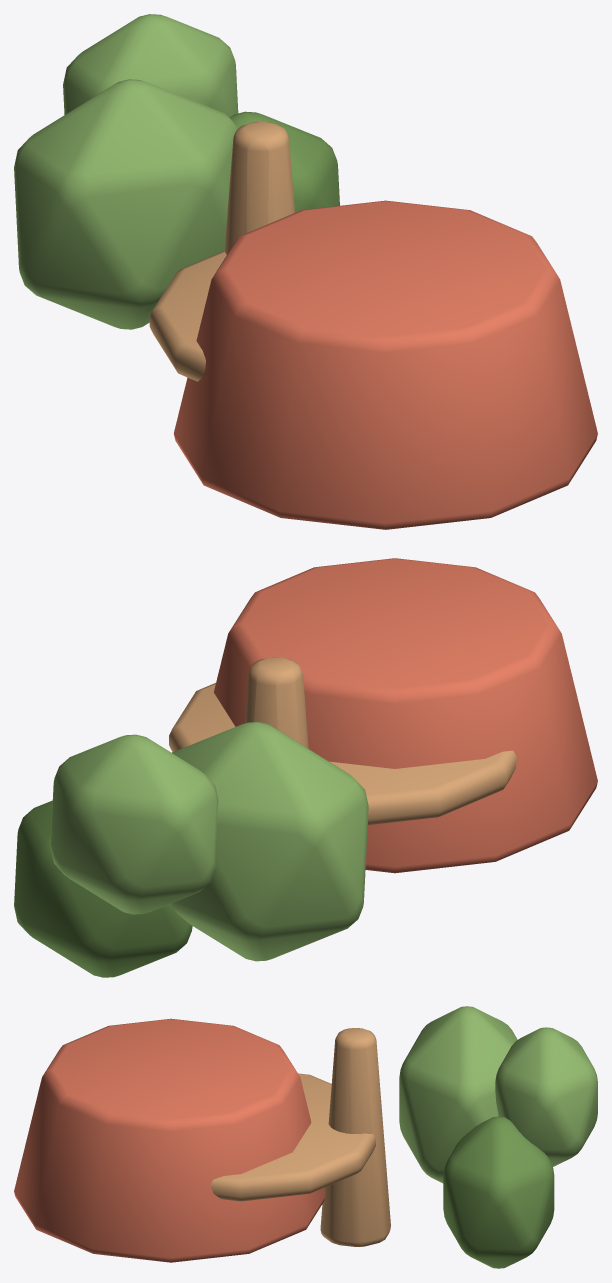
The model's file is bonsai.glb.
3 renders of one model, top to bottom at view 1: azimuth 30°, elevation 25°; view 2: azimuth 150°, elevation 25°; view 3: azimuth 270°, elevation 25°, orthographic. The views are drawn at different scales.
Parts seen in each view (by area): view 1: bonsai; view 2: bonsai; view 3: bonsai.
Part boxes in pixels (x1=…): bonsai: x1=14, y1=14, x2=597, y2=529; bonsai: x1=14, y1=558, x2=597, y2=977; bonsai: x1=14, y1=1006, x2=597, y2=1268.
Bounding box in the file's own units: 0.988 × 0.7453 × 1.84.
